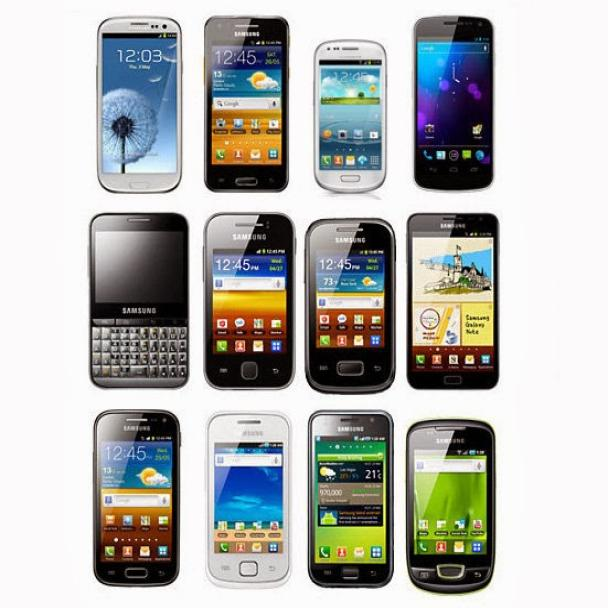Handphone: (87, 214, 189, 388), (407, 213, 501, 391), (306, 409, 395, 585), (203, 213, 291, 390), (91, 409, 178, 586), (306, 218, 395, 390), (406, 421, 496, 590), (203, 16, 290, 189), (97, 19, 183, 192), (412, 18, 498, 189), (210, 415, 288, 581), (310, 37, 388, 189)
